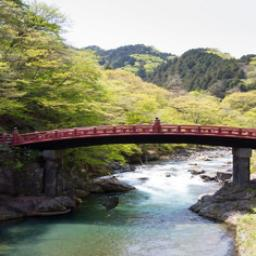Crow: (99, 196, 120, 217)
